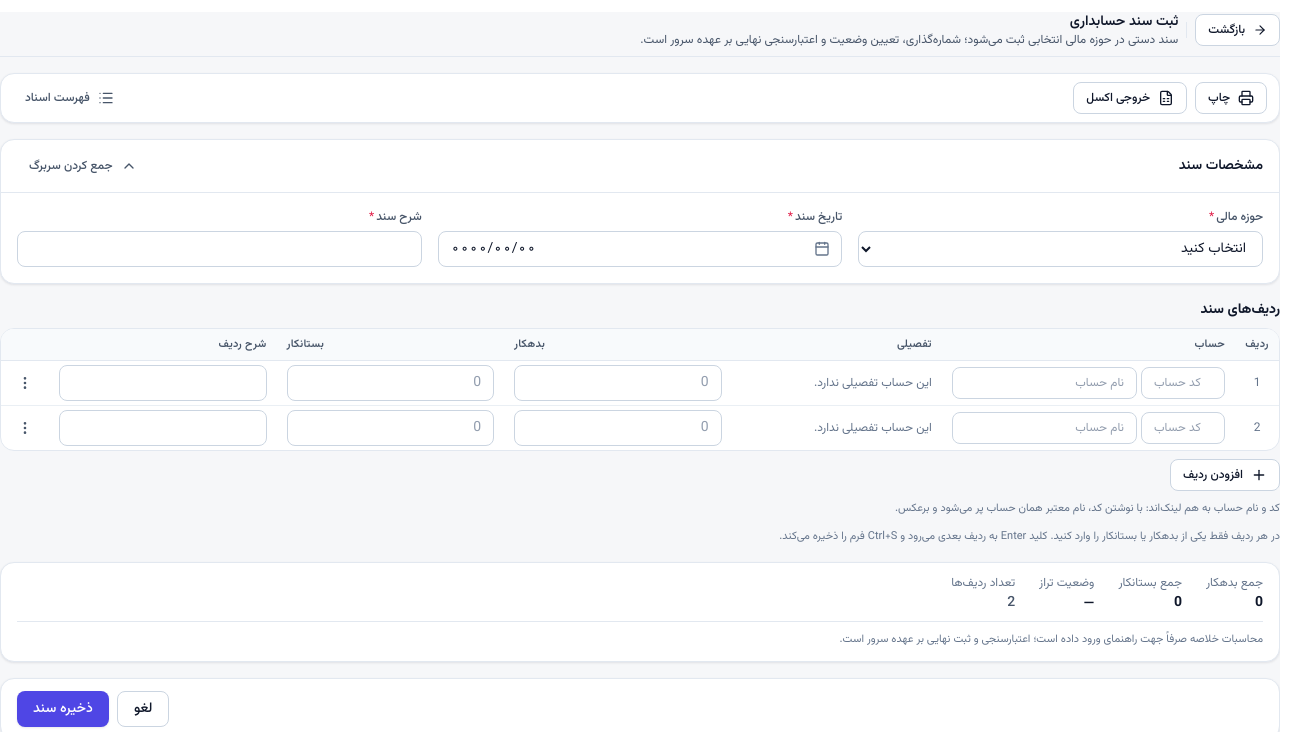
Test case: Document create — submission › maps a server validation failure onto the form banner (never the raw backend message)
Select "FIN — حوزه مالی اصلی" in the dropdown labelled "حوزه مالی" at (1061,249), box [858,231,1263,267]
Type "شرح سند آزمایشی" into the field labelled "شرح سند" at (219,249), box [17,231,422,267]
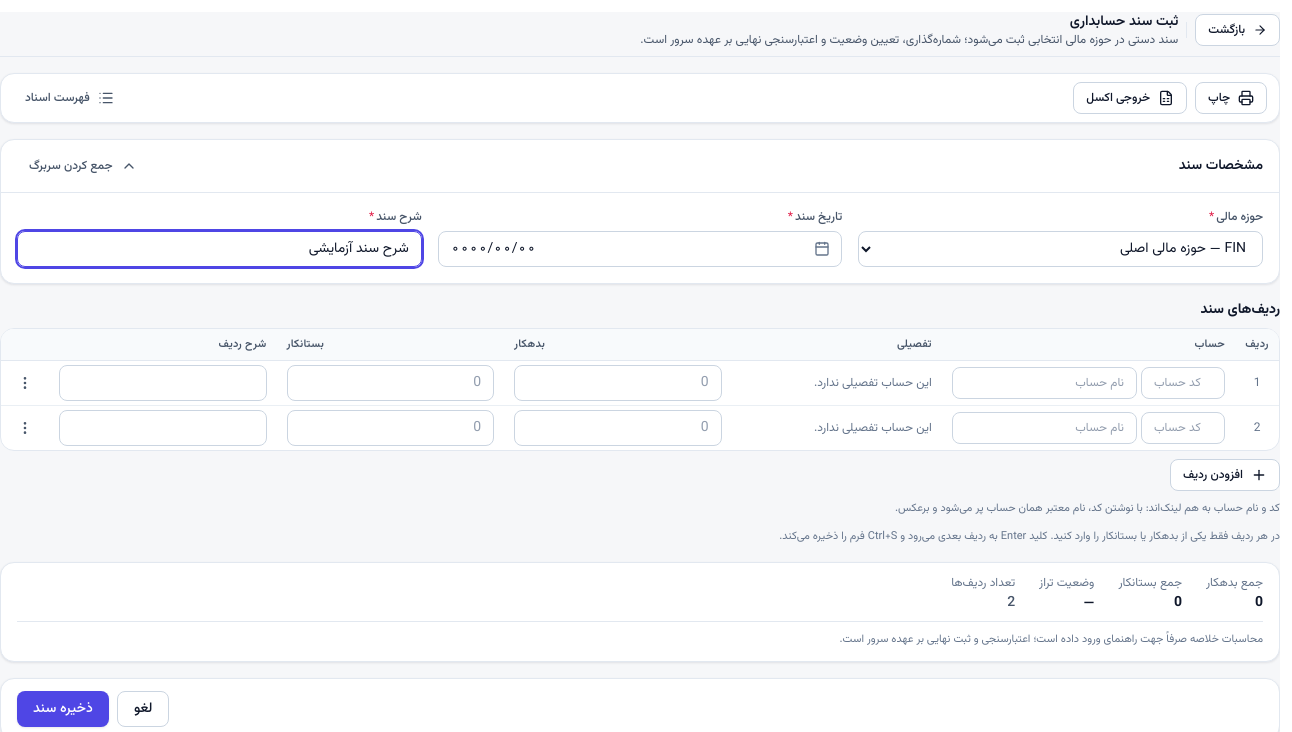
Type "1010" into the 1st field labelled "کد حساب" at (1183,383), box [1141,367,1225,399]
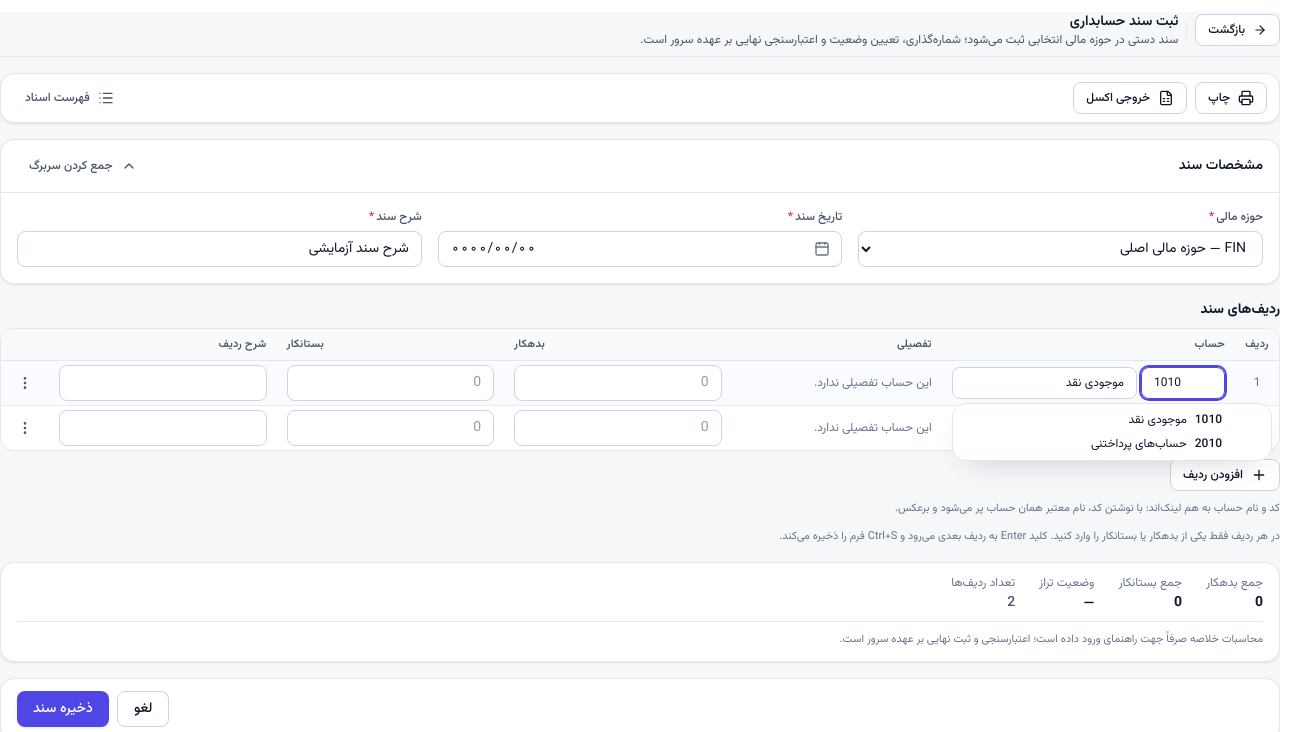
Expected: the field named "نام حساب" holds "موجودی نقد", [952,367,1137,399]
Type "1000" into the field named "بدهکار" at (618,383), box [514,365,722,401]
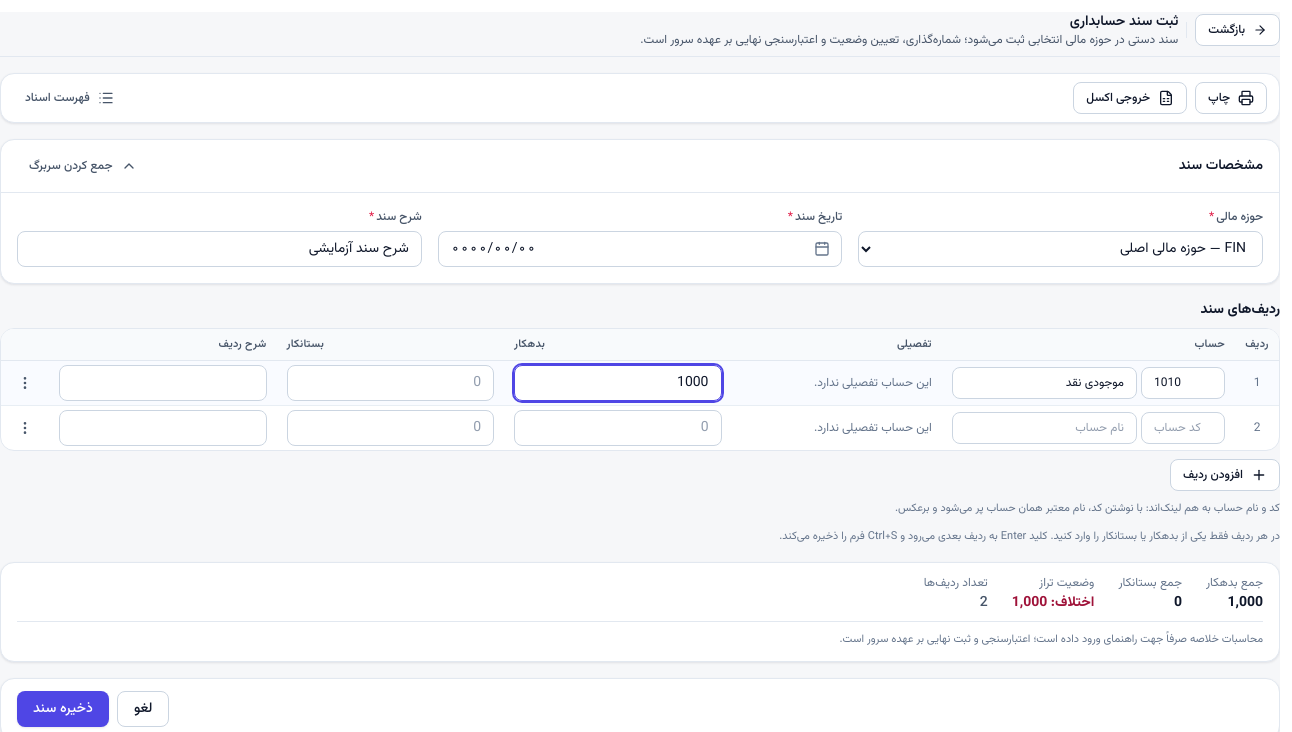
Type "2010" into the field labelled "کد حساب" at (1183,428), box [1141,412,1225,444]
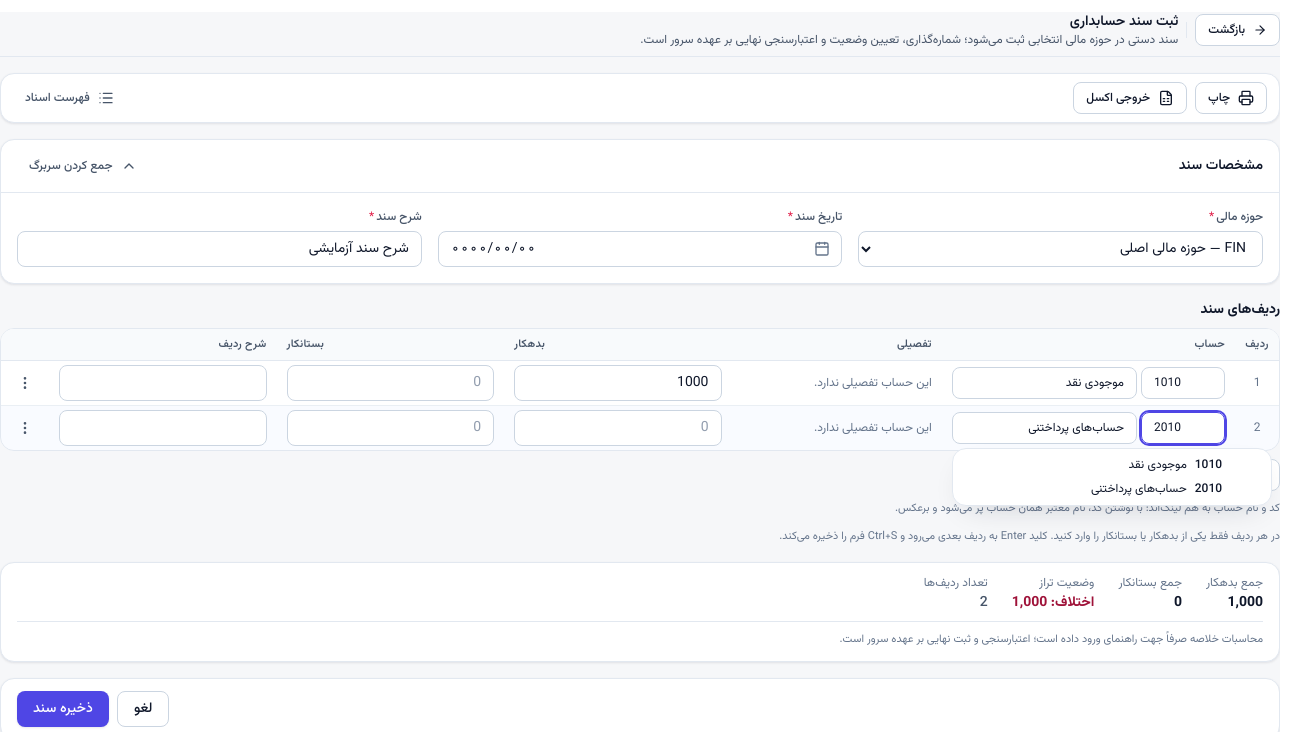
Expected: the 2nd field named "نام حساب" holds "حساب‌های پرداختنی", [952,412,1137,444]
Type "1000" into the field named "بستانکار" at (390,428), box [286,410,494,446]
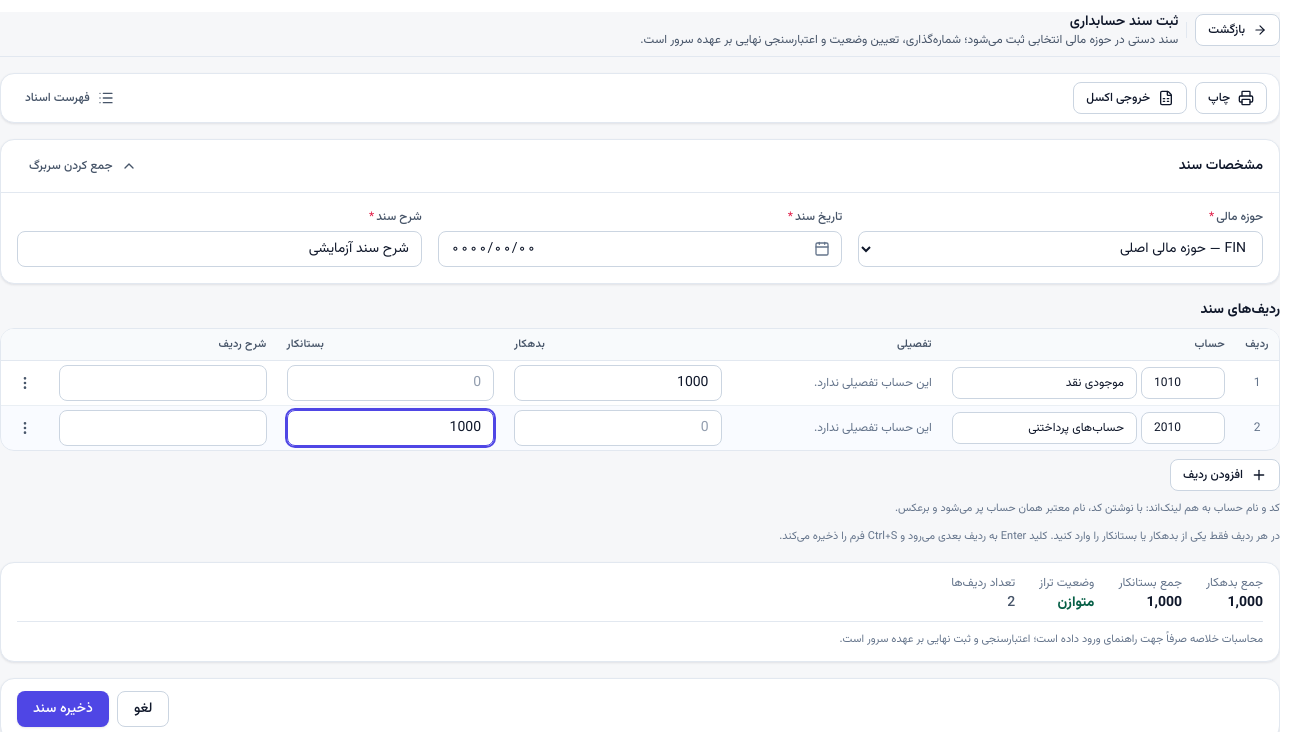
Click the button "ذخیره سند" at (63,709), box [17,691,109,727]
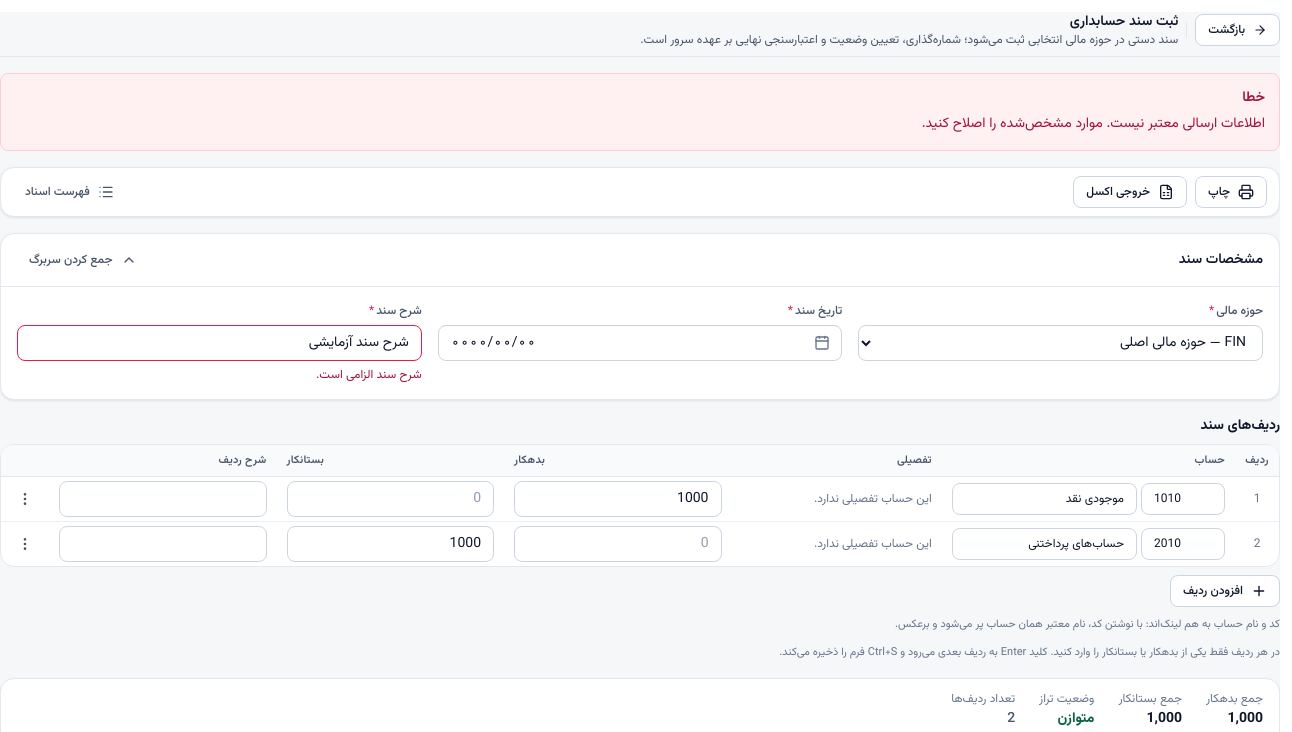
Expected: the text "اطلاعات ارسالی معتبر نیست. موارد مشخص‌شده را اصلاح کنید." is shown, [922,113,1265,135]
